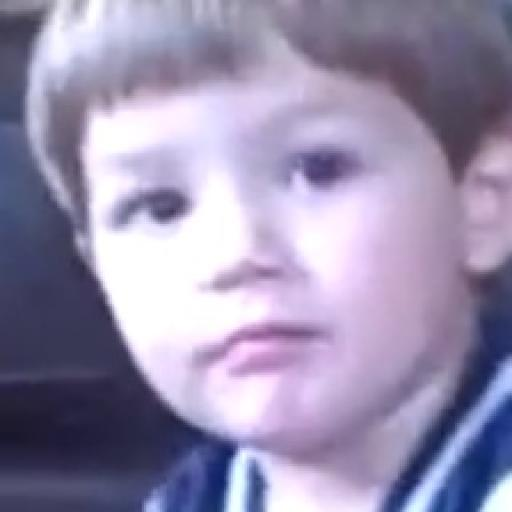Autism: (64, 12, 480, 454)
